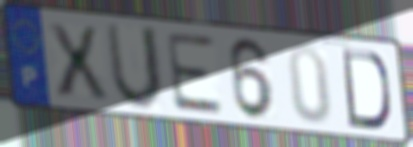0: (285, 42, 334, 127)
6: (226, 35, 278, 123)
D: (339, 46, 394, 132)
E: (163, 29, 226, 117)
U: (103, 20, 166, 113)
X: (44, 20, 113, 103)
